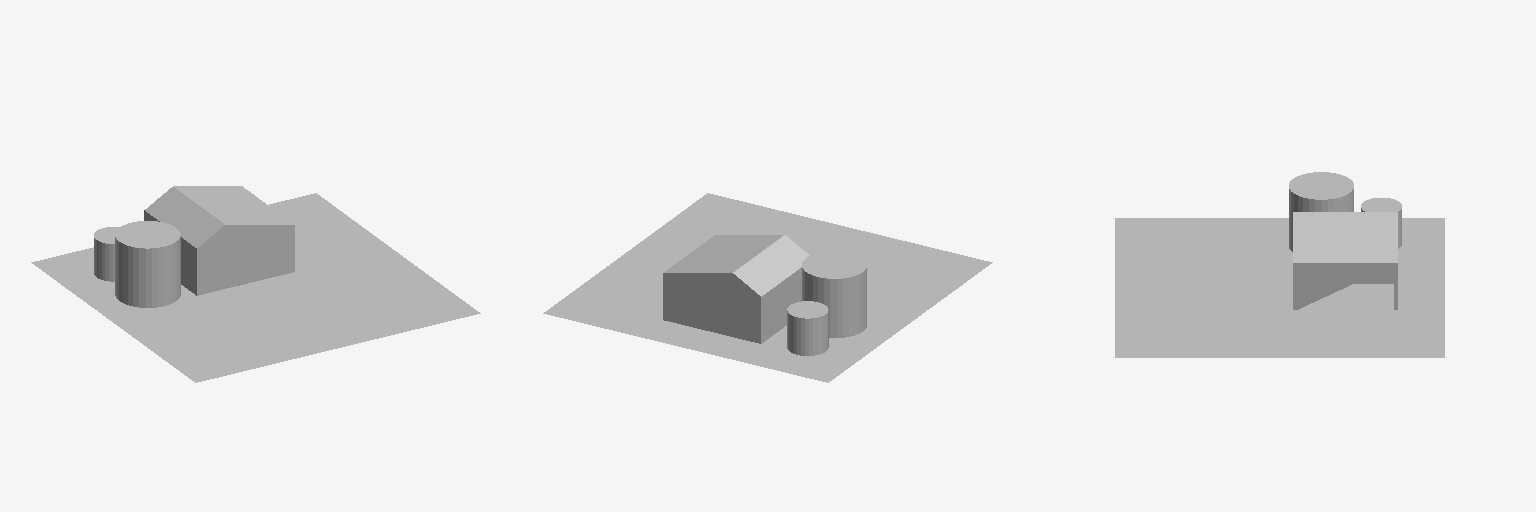
File: farm_lopo.obj
The picture shows the model from 3 angles: view 1: azimuth 30°, elevation 25°; view 2: azimuth 150°, elevation 25°; view 3: azimuth 270°, elevation 25°; orthographic projection.
Parts seen in each view (by area): view 1: Tile_Default_Plane, Cube, Cylinder, Cylinder.001; view 2: Tile_Default_Plane, Cube, Cylinder, Cylinder.001; view 3: Tile_Default_Plane, Cube, Cylinder, Cylinder.001.
Boxes of the visible parts, x1,y1,x2,y2 form: Tile_Default_Plane: [31, 193, 480, 382]; Cube: [144, 186, 294, 295]; Cylinder: [115, 221, 180, 307]; Cylinder.001: [94, 227, 119, 281]; Tile_Default_Plane: [543, 193, 992, 382]; Cube: [663, 235, 809, 343]; Cylinder: [802, 251, 866, 337]; Cylinder.001: [787, 301, 828, 355]; Tile_Default_Plane: [1115, 218, 1444, 357]; Cube: [1293, 212, 1397, 309]; Cylinder: [1289, 172, 1353, 251]; Cylinder.001: [1361, 198, 1401, 248].
Bounding box in the file's own units: 1 × 0.216 × 1.